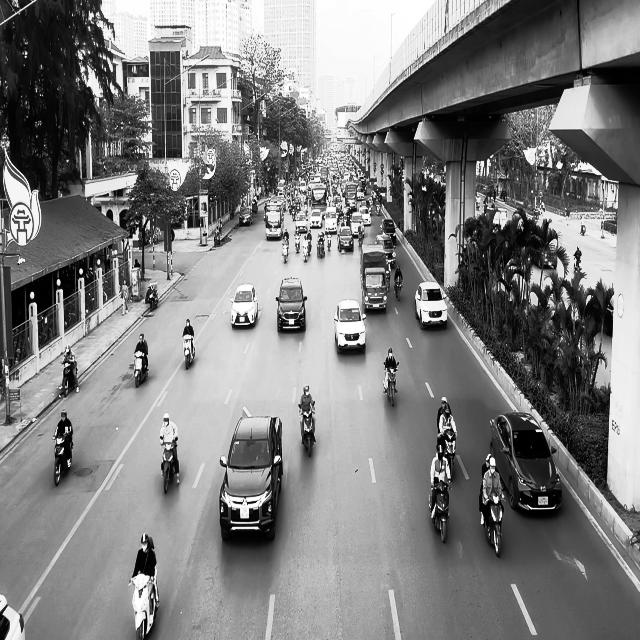car: (219, 411, 283, 541), (490, 411, 562, 513), (275, 276, 307, 332), (334, 298, 366, 354), (414, 281, 448, 329), (230, 283, 258, 328), (238, 206, 252, 226)
motorbike: (128, 566, 160, 640), (480, 491, 505, 557), (428, 480, 452, 543), (52, 430, 73, 486), (160, 436, 179, 494), (298, 402, 316, 457), (58, 360, 79, 398), (442, 430, 457, 480), (383, 362, 399, 406), (133, 350, 148, 388), (182, 333, 195, 369), (146, 282, 158, 310), (393, 276, 402, 299), (573, 253, 582, 273), (282, 239, 288, 262)
